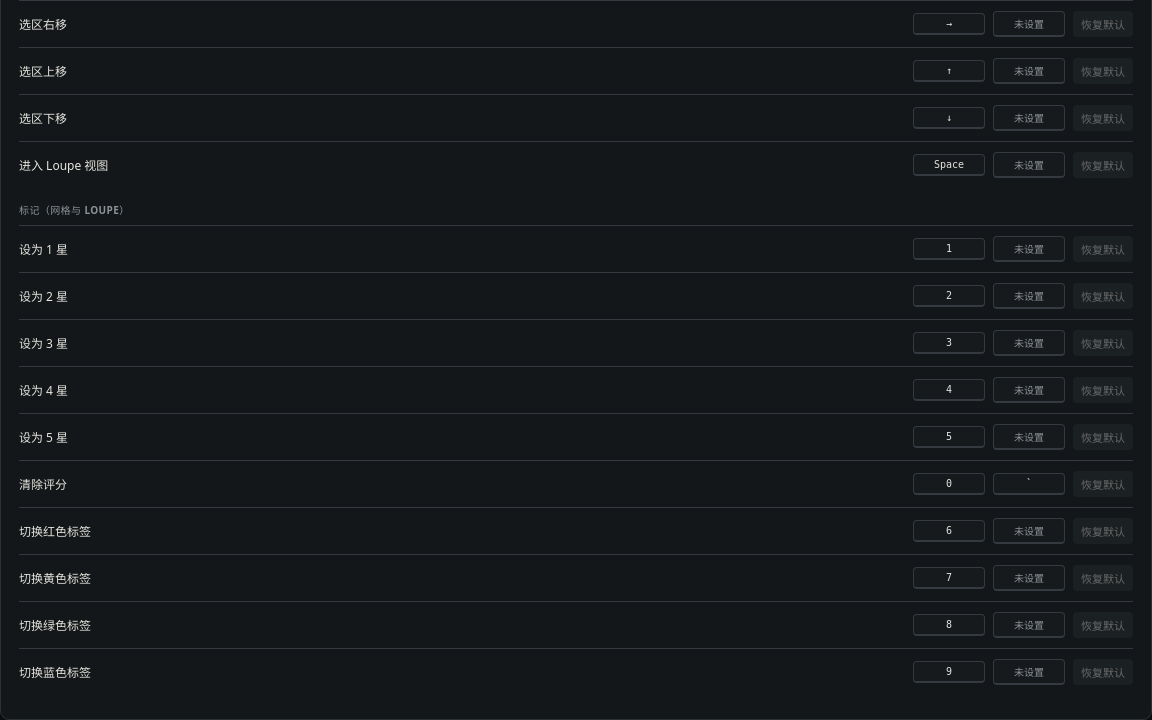
rejects using one key for both slots of an action
Click the button with class "shortcut-settings__keys" showing "0" at [949, 484], box [913,473,985,495]
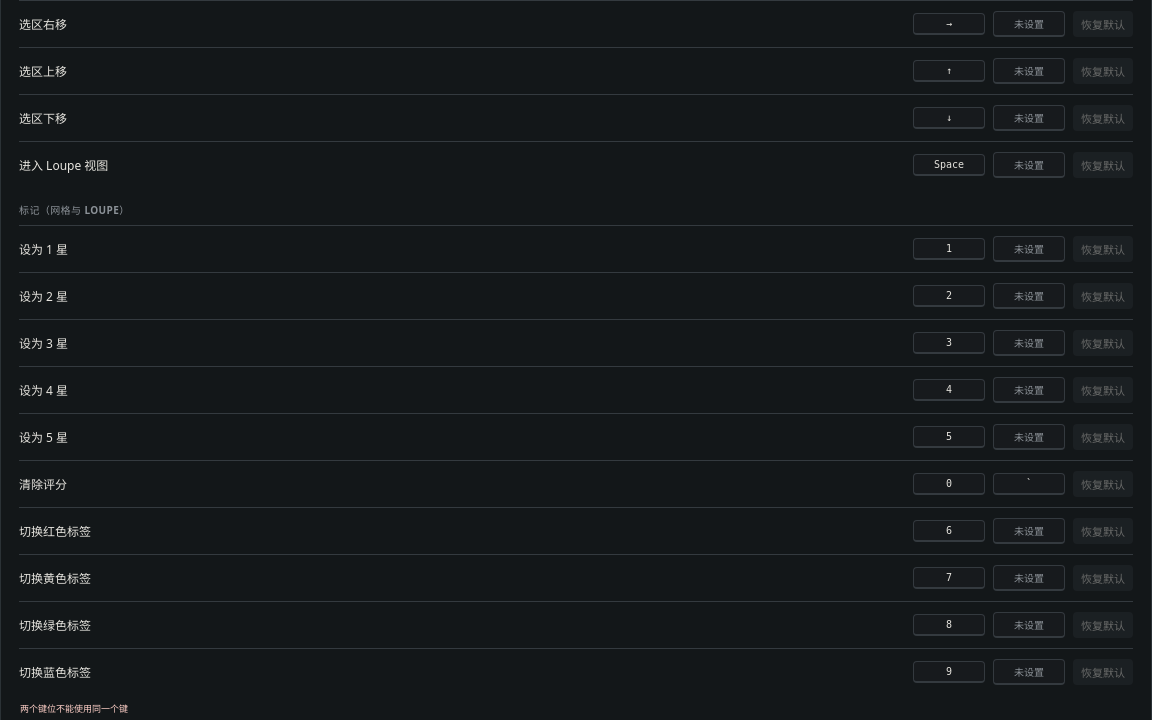
Expected: the message "两个键位不能使用同一个键" is shown, [20,702,128,715]
